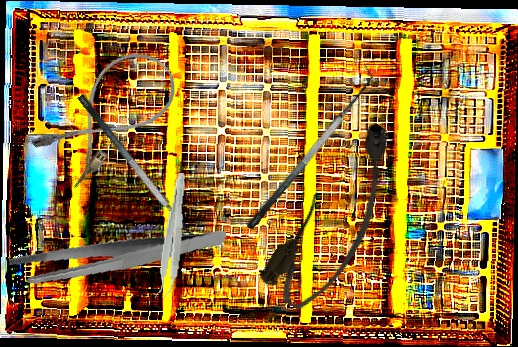Cannula: (254, 115, 421, 319), (26, 36, 189, 193)
Dressing Forceps: (6, 209, 227, 303)
Spatula Surgical: (232, 62, 385, 232), (75, 83, 214, 254)
Tissue Forceps: (152, 171, 191, 301)
